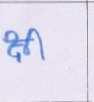i_matra: (30, 28, 47, 60)
